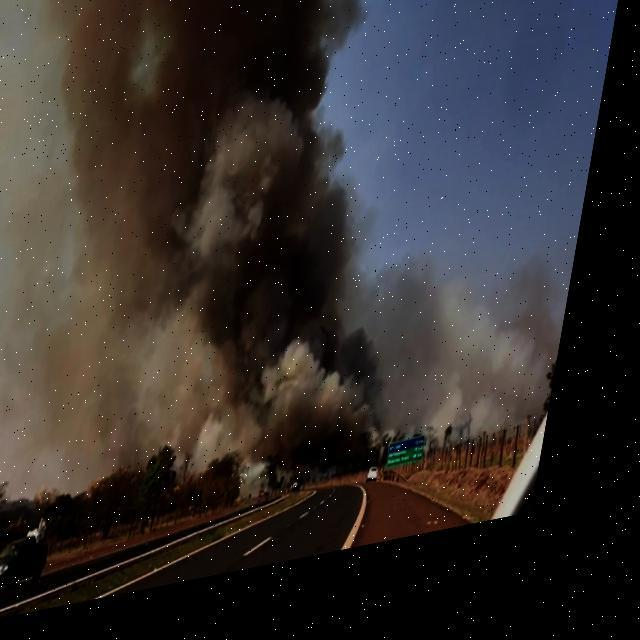Fire: (314, 477, 324, 488)
